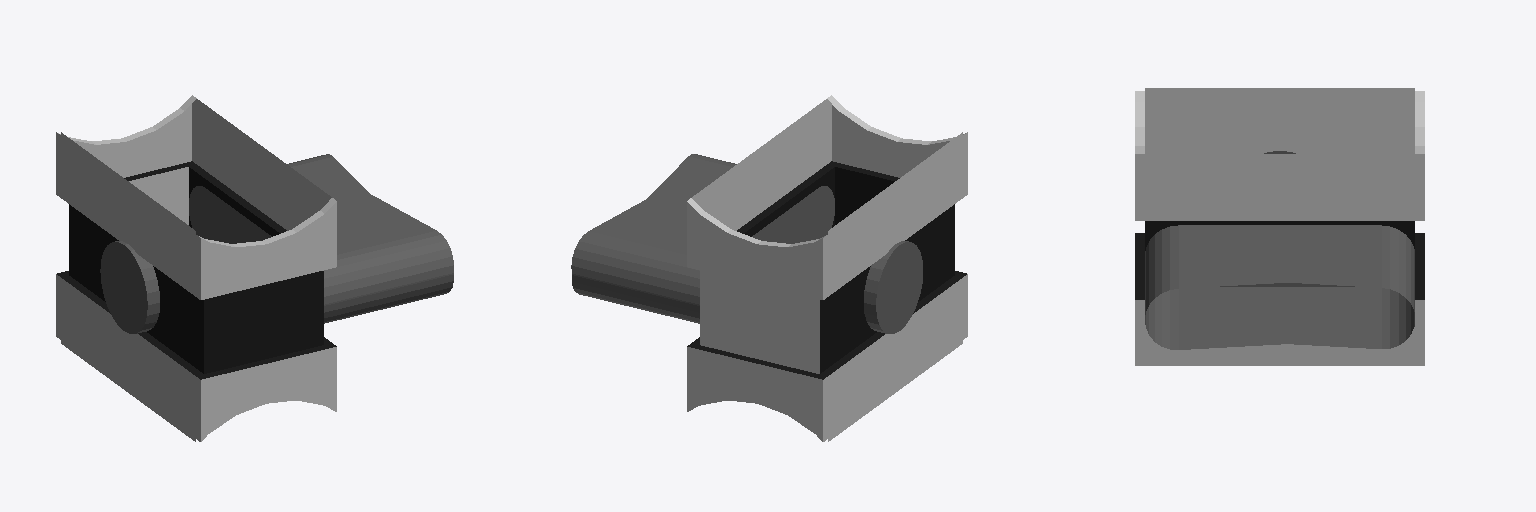
The model's file is pylon.obj.
The picture shows the model from 3 angles: view 1: azimuth 30°, elevation 25°; view 2: azimuth 150°, elevation 25°; view 3: azimuth 270°, elevation 25°; orthographic projection.
Visible parts, largest first — view 1: UESN_YorktownClass_Carrier__CVM5__c_Group_7-LightGray1, UESN_YorktownClass_Carrier__CVM5__c_Group_7-DimGray, UESN_YorktownClass_Carrier__CVM5__c_Group_7-Charcoal; view 2: UESN_YorktownClass_Carrier__CVM5__c_Group_7-LightGray1, UESN_YorktownClass_Carrier__CVM5__c_Group_7-DimGray, UESN_YorktownClass_Carrier__CVM5__c_Group_7-Charcoal; view 3: UESN_YorktownClass_Carrier__CVM5__c_Group_7-LightGray1, UESN_YorktownClass_Carrier__CVM5__c_Group_7-DimGray, UESN_YorktownClass_Carrier__CVM5__c_Group_7-Charcoal.
Boxes of the visible parts, <box> form: UESN_YorktownClass_Carrier__CVM5__c_Group_7-LightGray1: <box>56,95,336,441</box>; UESN_YorktownClass_Carrier__CVM5__c_Group_7-DimGray: <box>100,154,453,333</box>; UESN_YorktownClass_Carrier__CVM5__c_Group_7-Charcoal: <box>57,161,336,379</box>; UESN_YorktownClass_Carrier__CVM5__c_Group_7-LightGray1: <box>687,95,967,441</box>; UESN_YorktownClass_Carrier__CVM5__c_Group_7-DimGray: <box>571,154,922,333</box>; UESN_YorktownClass_Carrier__CVM5__c_Group_7-Charcoal: <box>687,161,966,379</box>; UESN_YorktownClass_Carrier__CVM5__c_Group_7-LightGray1: <box>1135,88,1424,365</box>; UESN_YorktownClass_Carrier__CVM5__c_Group_7-DimGray: <box>1145,151,1414,349</box>; UESN_YorktownClass_Carrier__CVM5__c_Group_7-Charcoal: <box>1135,221,1424,299</box>.
Size of the model in its own units: 18.8 by 14.41 by 17.88.